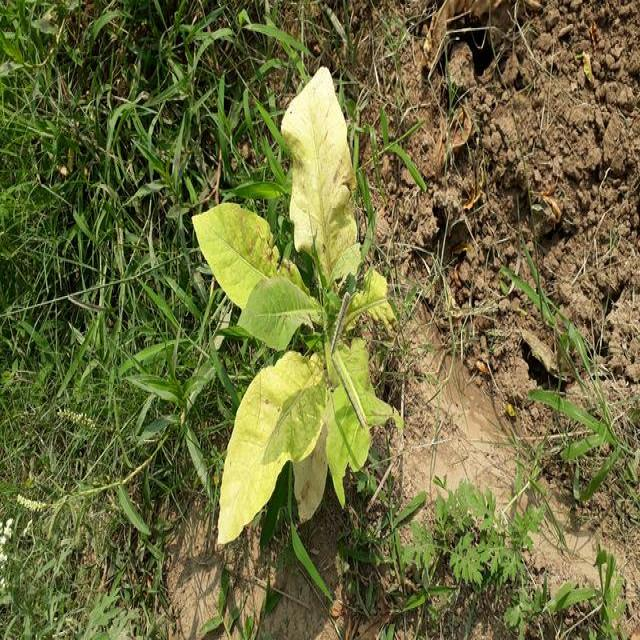crop: (196, 66, 410, 555)
